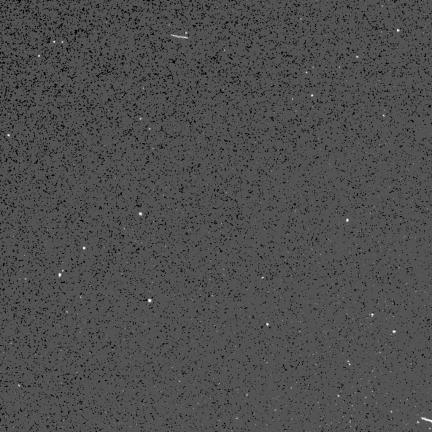blob: (266, 323, 270, 327), (397, 29, 400, 33), (393, 331, 397, 334), (83, 247, 86, 251), (148, 299, 151, 302), (346, 219, 349, 222), (59, 273, 61, 277), (139, 213, 142, 215), (54, 41, 56, 44)
streak: (171, 35, 188, 38)
